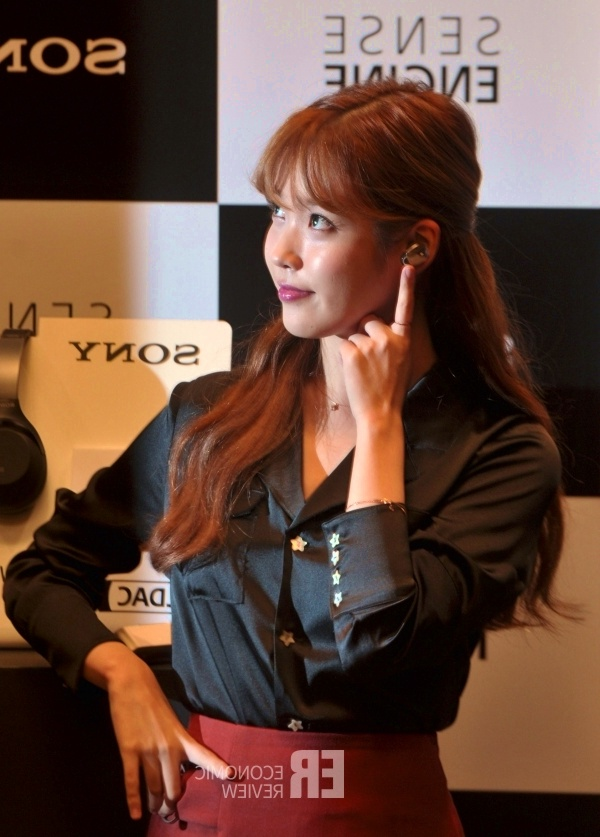earphone: (396, 219, 441, 279)
